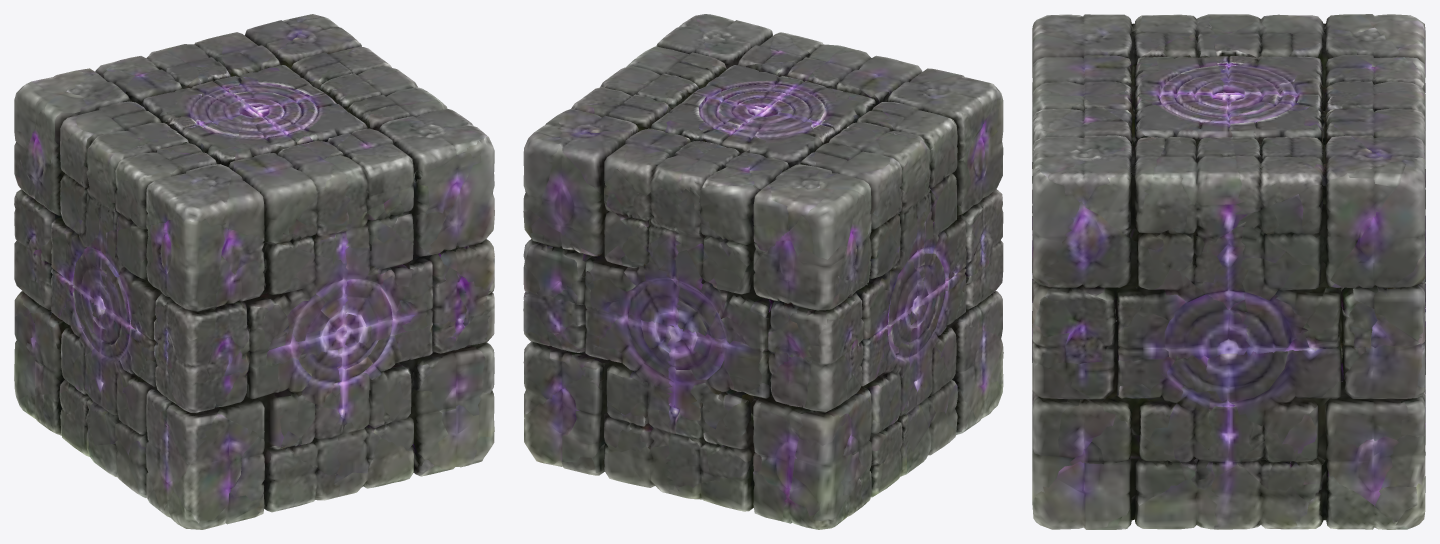
The model's file is boardGame.glb.
3 renders of one model, left to right at view 1: azimuth 30°, elevation 25°; view 2: azimuth 150°, elevation 25°; view 3: azimuth 270°, elevation 25°, orthographic. The views are drawn at different scales.
Bounding box in the file's own units: 1.9 × 1.9 × 1.9.
Materials: 1 (1 with a texture image).
